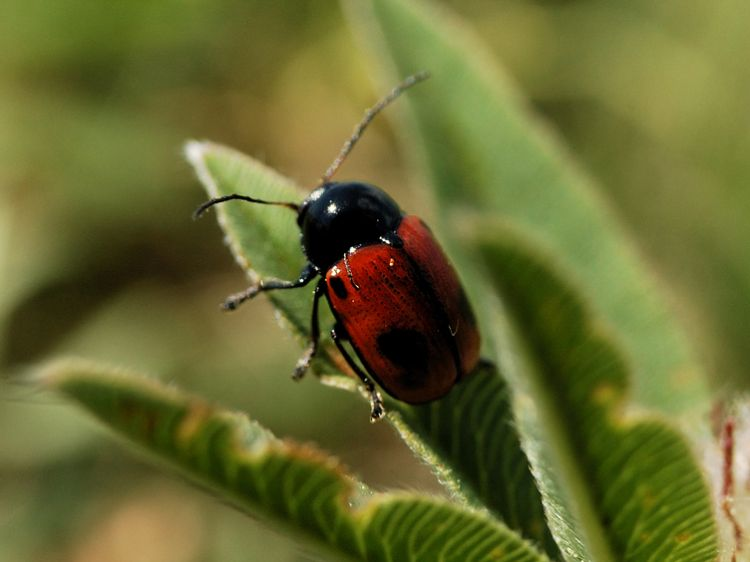Cryptocephalus_bipunctatus: (181, 67, 491, 433)
